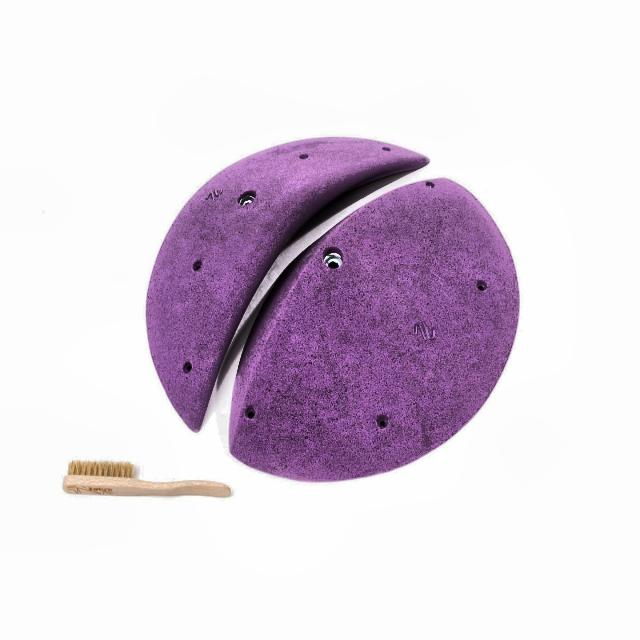Hold: (138, 120, 506, 478)
